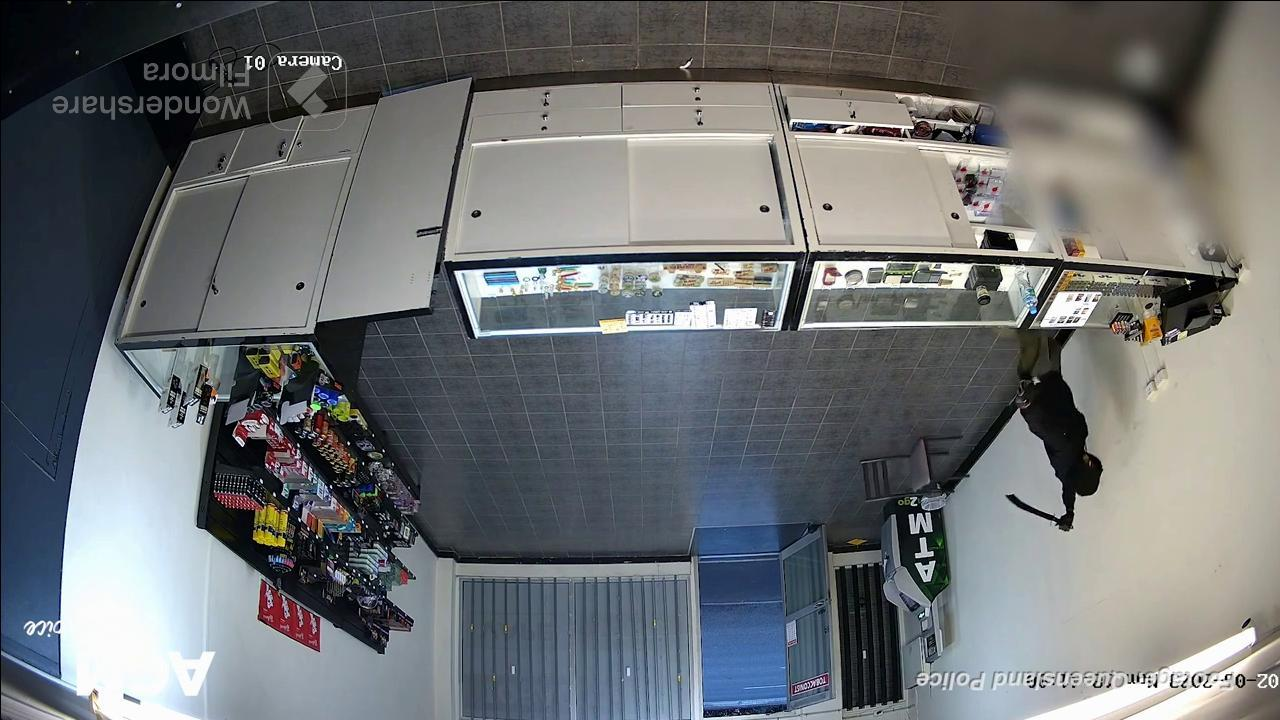melee: (1000, 490, 1064, 527)
